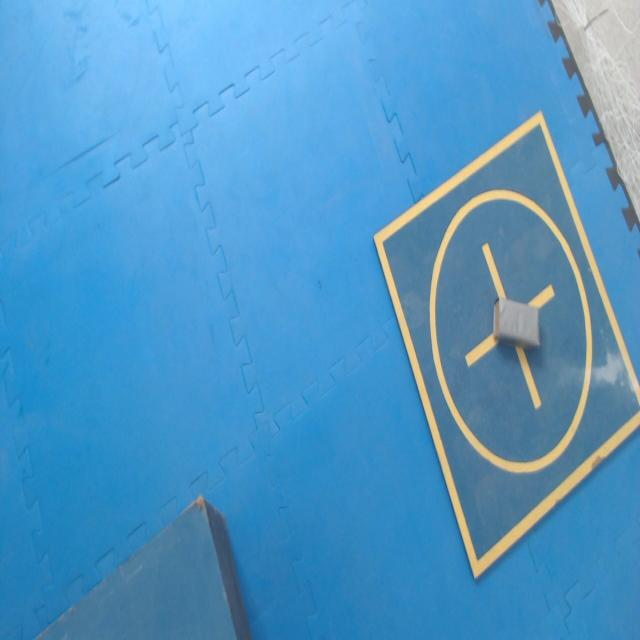lipo: (493, 297, 540, 348)
